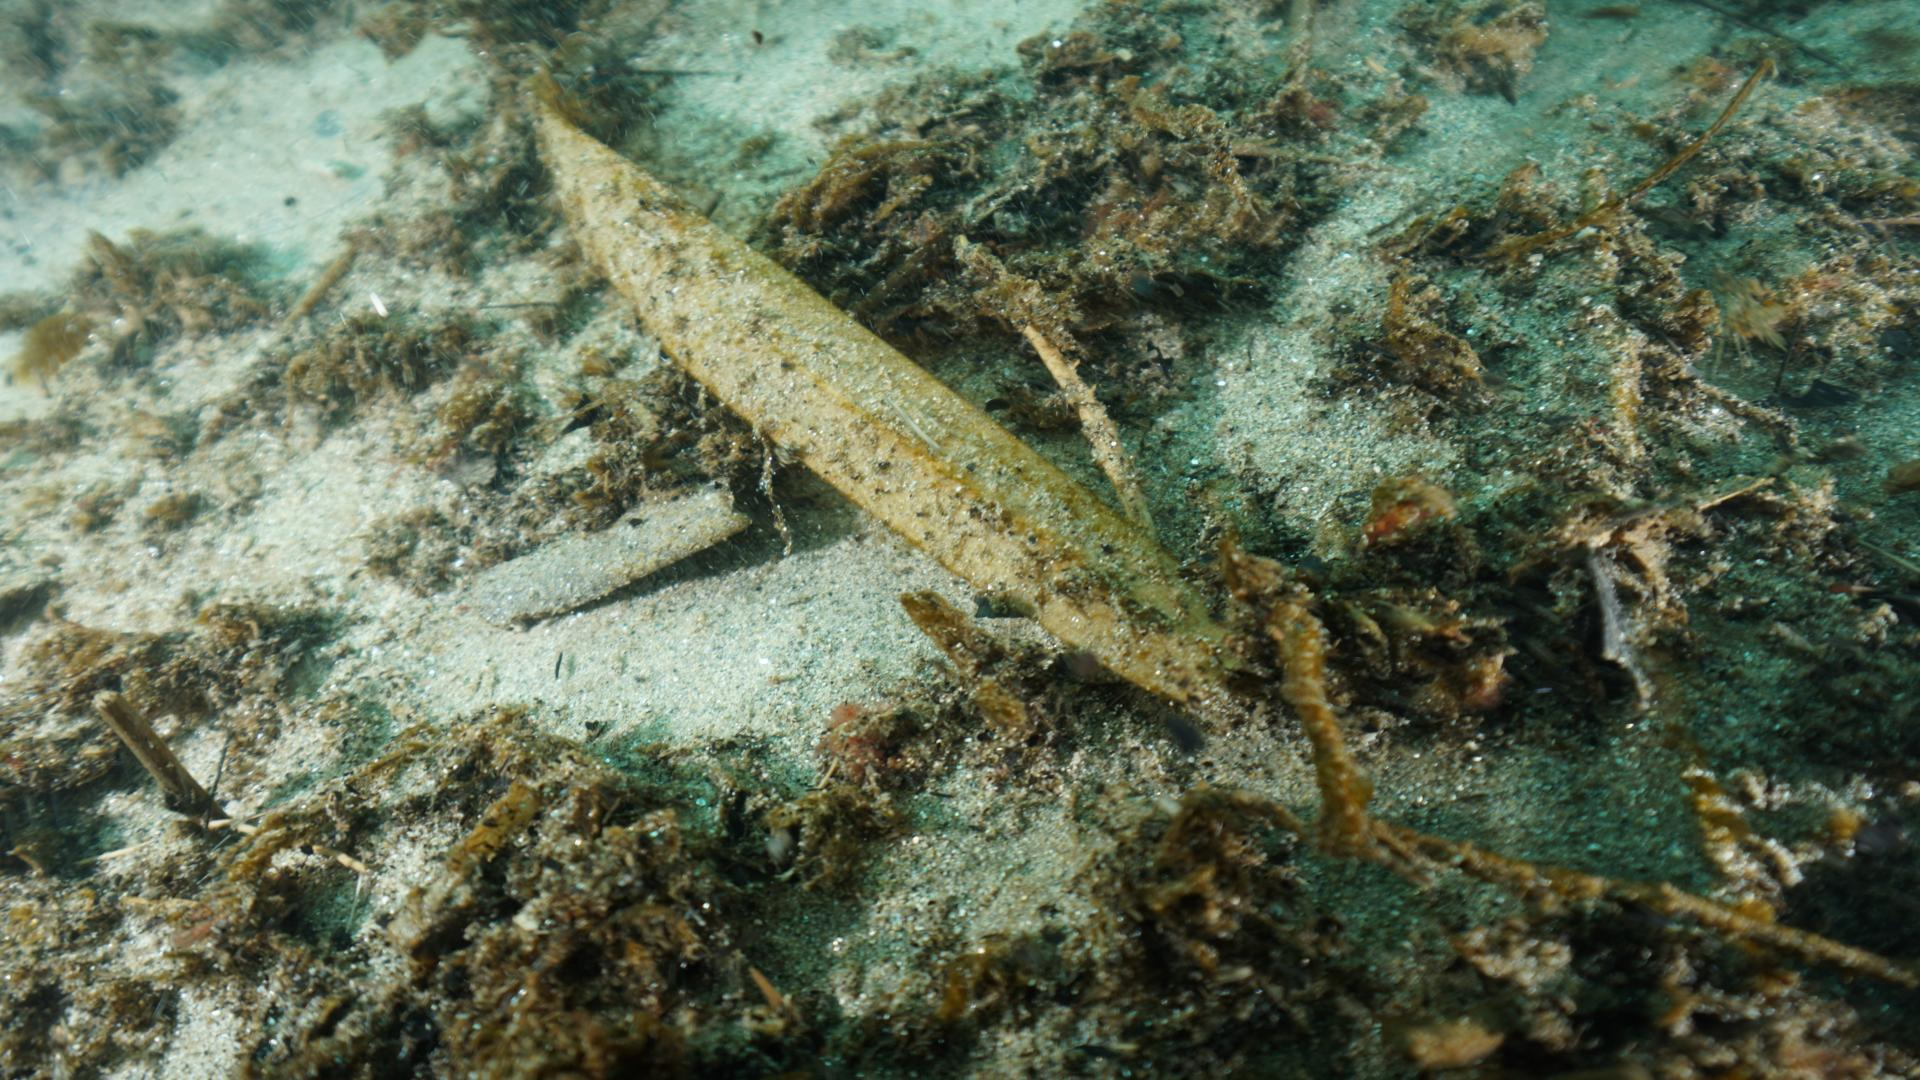wood: (526, 92, 1213, 698)
